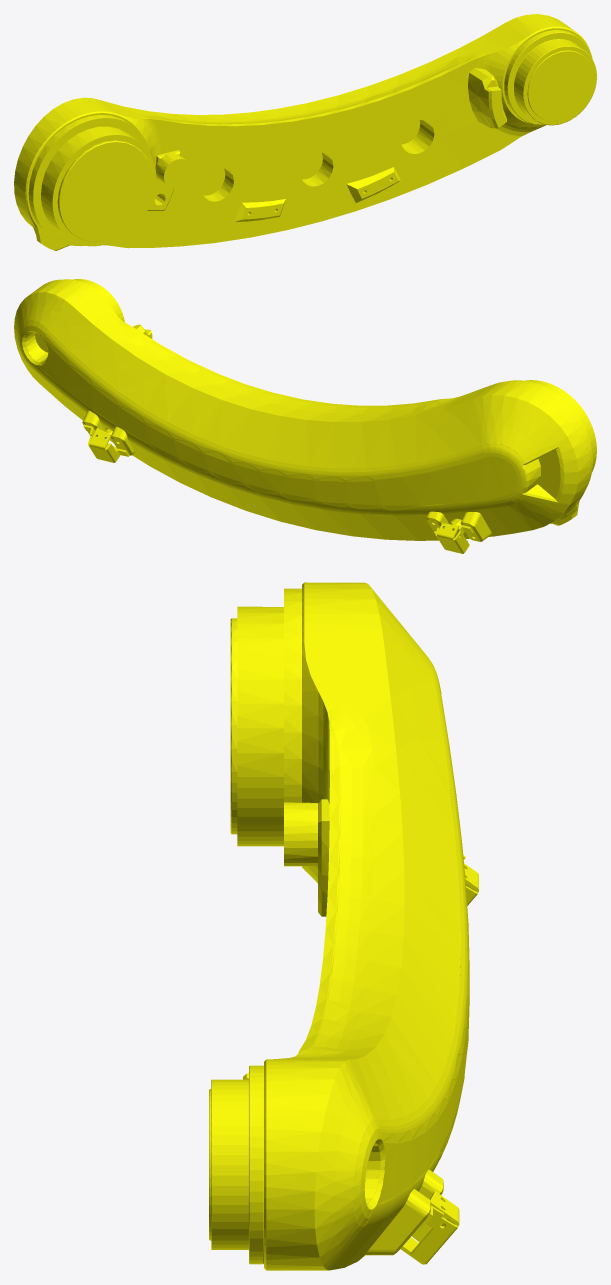
3 renders of one model, top to bottom at view 1: azimuth 30°, elevation 25°; view 2: azimuth 150°, elevation 25°; view 3: azimuth 270°, elevation 25°, orthographic. The views are drawn at different scales.
Parts seen in each view (by area): view 1: node; view 2: node; view 3: node.
Boxes of the visible parts, x1,y1,x2,y2 form: node: (14, 14, 596, 250); node: (14, 279, 596, 553); node: (209, 582, 478, 1270).
Size of the model in its own units: 1042 by 305 by 281.
